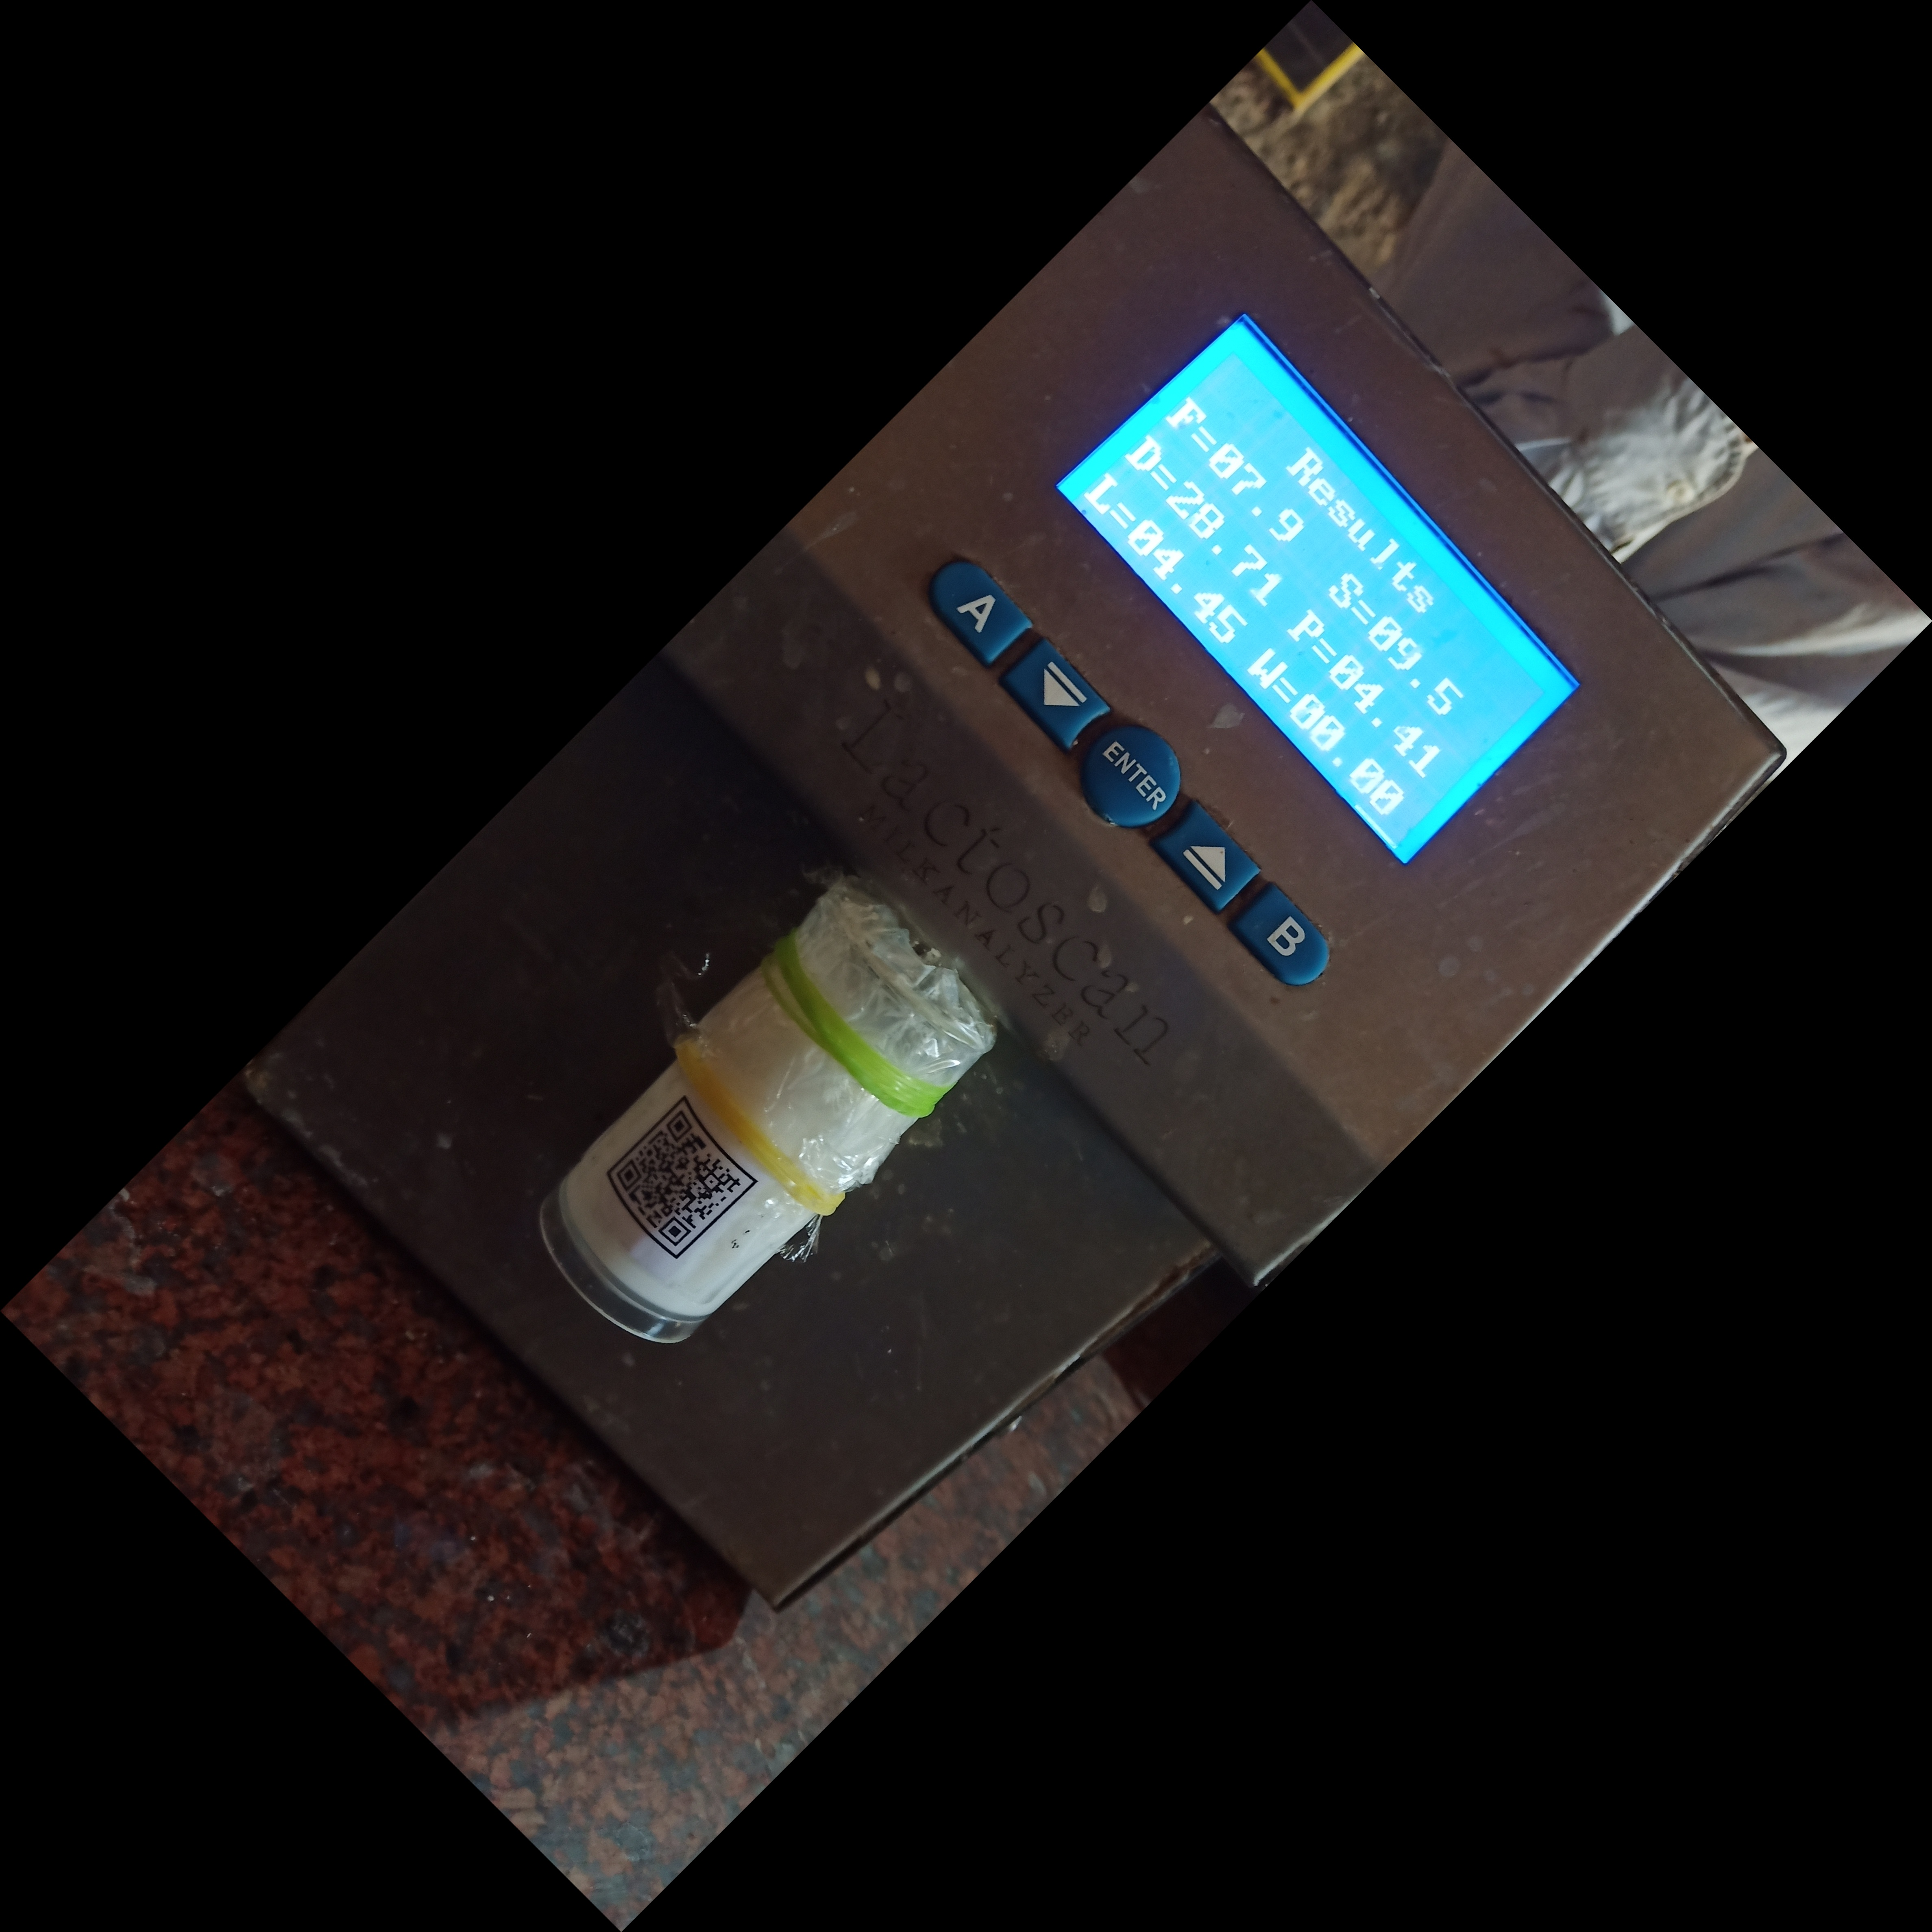lcd: (1024, 283, 1619, 869)
qr: (594, 1076, 780, 1276)
